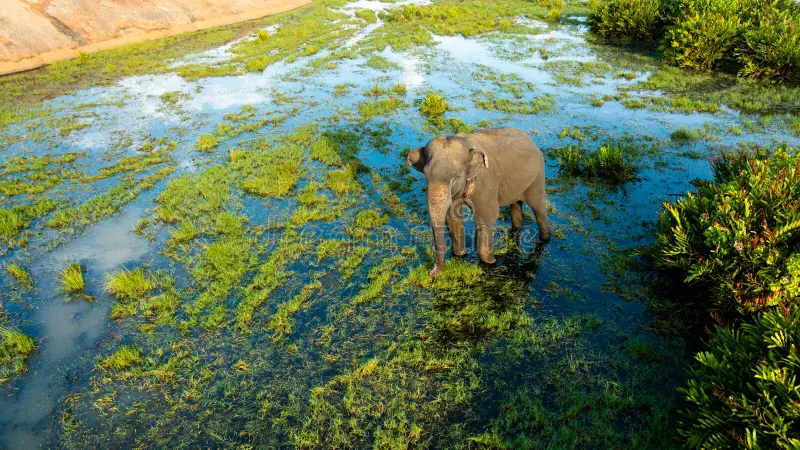Adult Elephant: (394, 88, 570, 293)
